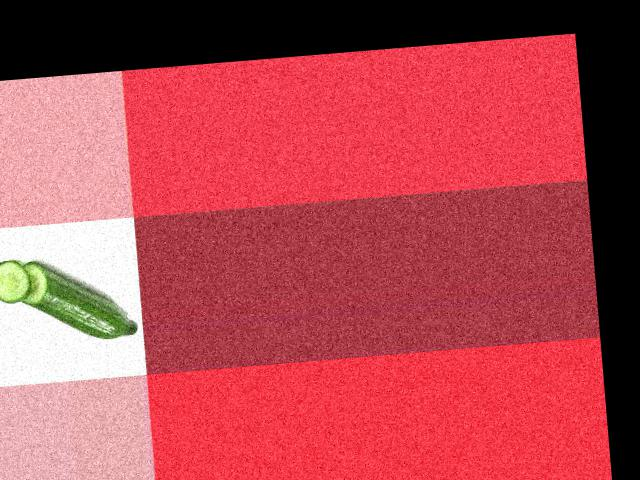cucumber: (16, 253, 137, 345)
